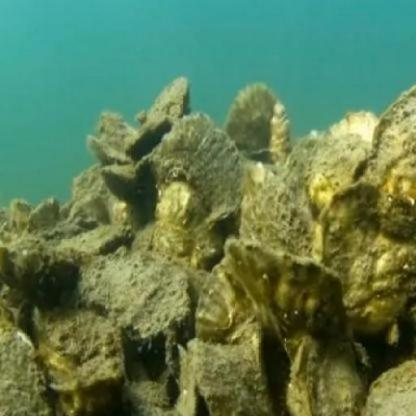Oyster-Closed: (230, 234, 363, 416), (313, 183, 416, 347), (152, 118, 245, 231), (78, 251, 190, 338), (240, 159, 322, 258), (36, 305, 124, 393), (195, 328, 271, 416), (197, 263, 255, 355), (371, 90, 416, 207), (0, 318, 51, 416), (313, 134, 376, 205), (223, 85, 283, 157), (285, 134, 331, 205), (358, 360, 416, 416), (126, 117, 172, 155), (147, 78, 189, 119), (331, 111, 379, 145), (98, 113, 135, 156), (89, 137, 132, 168), (104, 165, 137, 203), (67, 196, 110, 223), (29, 199, 60, 228)
